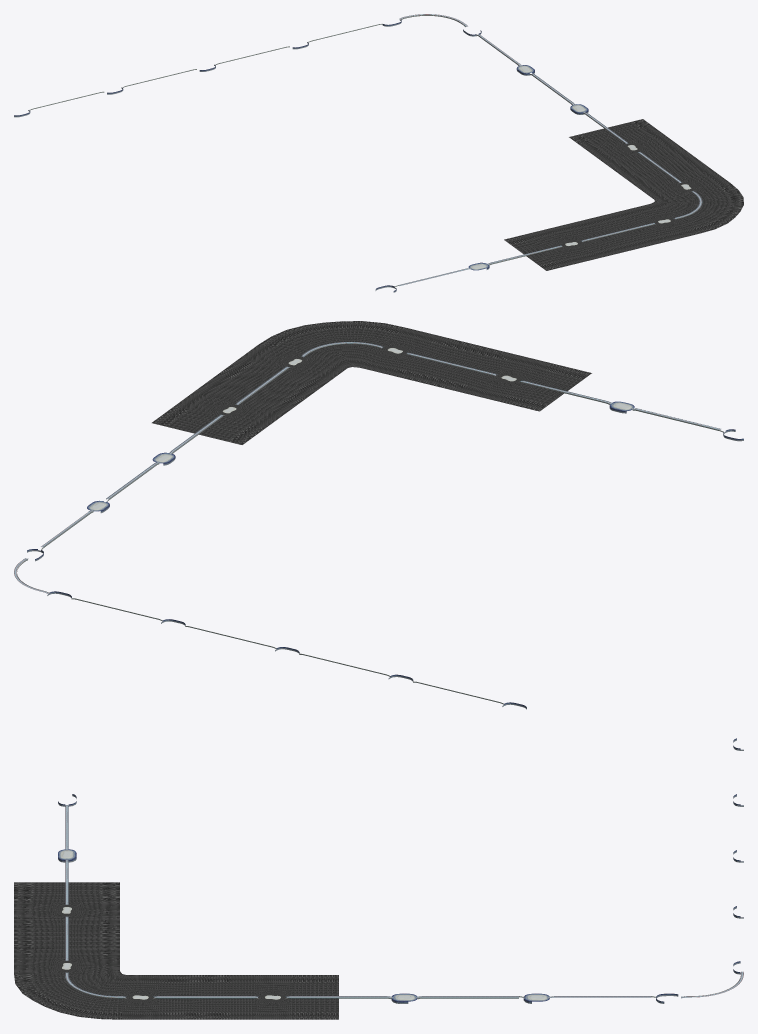
File: Egg_hawk_stage_7.obj
3 views of the same model, one above another, from view 1: azimuth 30°, elevation 25°; view 2: azimuth 150°, elevation 25°; view 3: azimuth 270°, elevation 25° (orthographic). The views are drawn at different scales.
Parts seen in each view (by area): view 1: obj1, obj2, obj3; view 2: obj1, obj2, obj3; view 3: obj1, obj2, obj3.
Boxes of the visible parts, left/top/right/bottom form: obj1: left=504, top=119, right=743, bottom=270; obj2: left=14, top=14, right=702, bottom=292; obj3: left=487, top=145, right=701, bottom=264; obj1: left=152, top=321, right=591, bottom=444; obj2: left=14, top=342, right=743, bottom=709; obj3: left=223, top=342, right=612, bottom=413; obj1: left=14, top=882, right=338, bottom=1019; obj2: left=58, top=738, right=743, bottom=1003; obj3: left=62, top=860, right=280, bottom=999.
Bounding box in the file's own units: 25191 × 130 × 27585.
